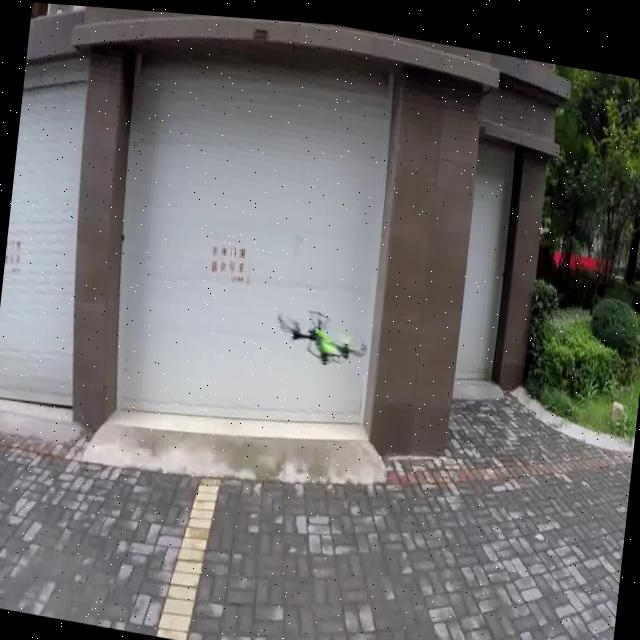drone: (0, 451, 621, 640)
